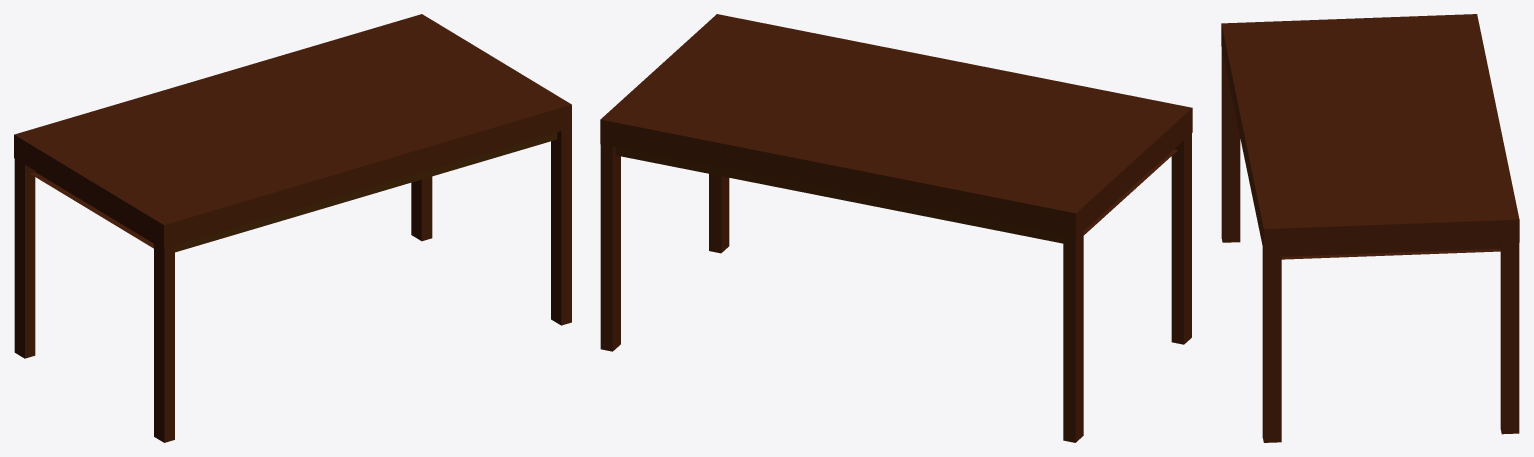
Rendered from Table.fbx.
3 renders of one model, left to right at view 1: azimuth 30°, elevation 25°; view 2: azimuth 150°, elevation 25°; view 3: azimuth 270°, elevation 25°, orthographic. The views are drawn at different scales.
Parts seen in each view (by area): view 1: Table.002; view 2: Table.002; view 3: Table.002.
Part boxes in pixels (box(x1,y1,x2,y2)): Table.002: box(14, 14, 571, 442); Table.002: box(600, 14, 1192, 442); Table.002: box(1221, 14, 1519, 442).
Bounding box in the file's own units: 181 × 84.04 × 106.
